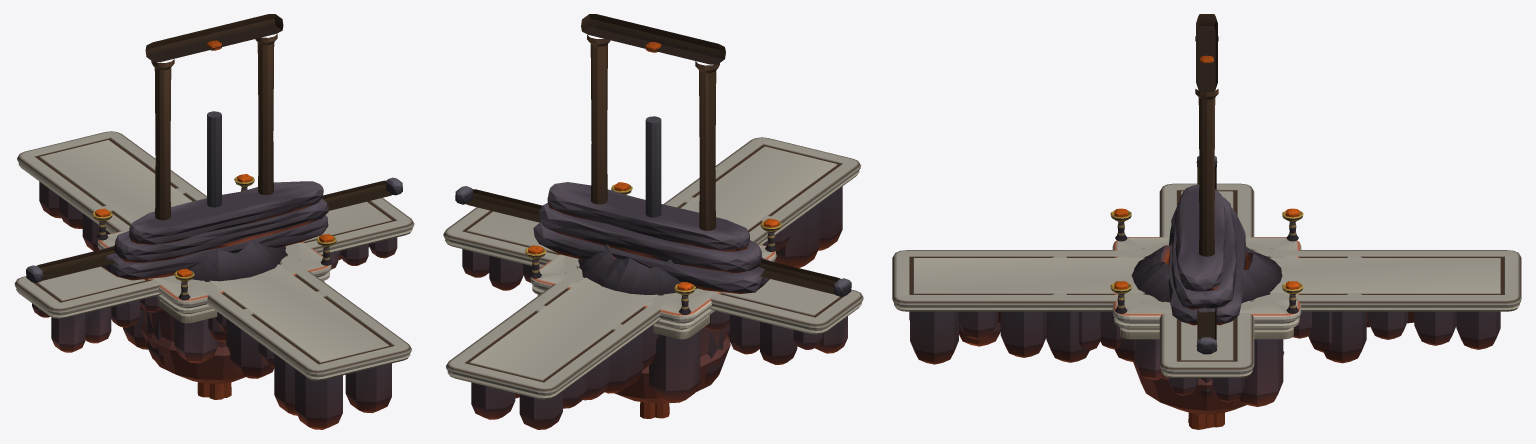
Rendered from volcano-6-qEWkpEZZ.glb.
The picture shows the model from 3 angles, left to right: view 1: azimuth 30°, elevation 25°; view 2: azimuth 150°, elevation 25°; view 3: azimuth 270°, elevation 25°; orthographic projection. The views are drawn at different scales.
Visible parts, largest first — view 1: block_8x2x40#0, spout_13.5x2#0, block_28x2x6#0, pressFrame_6x6x2x7#0, pad_12x2x12#0, disc_12x1.5#0, mount_13.8#0, pad_12x2x12_ledge#0, geyserVent_5#0, press_7x6x4#0, block_8x2x20_ice#0, support_0_round#0; view 2: block_8x2x40#0, spout_13.5x2#0, block_28x2x6#0, pressFrame_6x6x2x7#0, pad_12x2x12_ledge#0, pad_12x2x12#0, mount_13.8#0, geyserVent_5#0, disc_12x1.5#0, press_7x6x4#0, block_8x2x20_ice#0, support_0_round#0; view 3: block_8x2x40#0, block_28x2x6#0, pad_12x2x12#0, spout_13.5x2#0, pressFrame_6x6x2x7#0, block_8x2x20_ice#0, geyserVent_5#0, disc_12x1.5#0, pad_12x2x12_ledge#0, mount_13.8#0.
Boxes of the visible parts, x1,y1,x2,y2 form: block_8x2x40#0: [17, 131, 411, 429]; spout_13.5x2#0: [101, 181, 328, 280]; block_28x2x6#0: [14, 198, 414, 352]; pressFrame_6x6x2x7#0: [145, 14, 283, 220]; pad_12x2x12#0: [92, 175, 336, 365]; disc_12x1.5#0: [141, 243, 300, 383]; mount_13.8#0: [26, 177, 402, 282]; pad_12x2x12_ledge#0: [92, 174, 336, 349]; geyserVent_5#0: [174, 240, 287, 281]; press_7x6x4#0: [207, 111, 221, 207]; block_8x2x20_ice#0: [95, 187, 333, 353]; support_0_round#0: [197, 382, 231, 399]; block_8x2x40#0: [445, 137, 860, 429]; spout_13.5x2#0: [533, 182, 769, 293]; block_28x2x6#0: [443, 207, 863, 364]; pressFrame_6x6x2x7#0: [581, 14, 725, 230]; pad_12x2x12_ledge#0: [525, 182, 781, 402]; pad_12x2x12#0: [525, 183, 781, 384]; mount_13.8#0: [455, 186, 851, 296]; geyserVent_5#0: [578, 244, 696, 295]; disc_12x1.5#0: [563, 256, 730, 402]; press_7x6x4#0: [645, 116, 661, 217]; block_8x2x20_ice#0: [528, 196, 778, 387]; support_0_round#0: [640, 402, 669, 418]; block_8x2x40#0: [892, 250, 1521, 364]; block_28x2x6#0: [1159, 183, 1254, 402]; pad_12x2x12#0: [1110, 209, 1303, 406]; spout_13.5x2#0: [1168, 184, 1246, 325]; pressFrame_6x6x2x7#0: [1195, 14, 1218, 256]; block_8x2x20_ice#0: [1051, 250, 1362, 362]; geyserVent_5#0: [1131, 240, 1282, 302]; disc_12x1.5#0: [1128, 241, 1285, 414]; pad_12x2x12_ledge#0: [1111, 208, 1302, 339]; mount_13.8#0: [1196, 156, 1217, 354].
Size of the model in its own units: 28.5 by 26.5 by 40.
